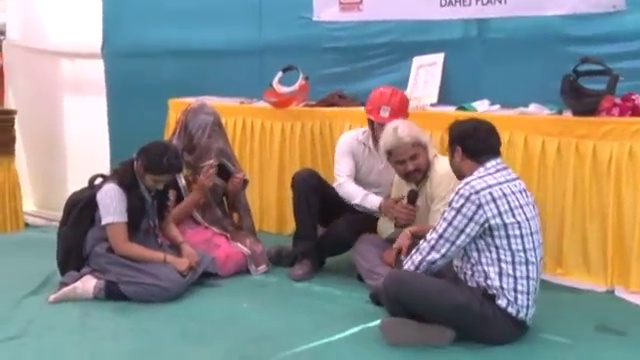helmet: (364, 86, 413, 127)
helmet_off: (438, 119, 507, 184), (379, 114, 434, 186), (173, 106, 228, 174), (124, 141, 186, 197)
helmet_on: (360, 86, 414, 147)
person: (355, 109, 547, 338), (268, 86, 415, 284), (50, 137, 205, 307), (156, 104, 256, 283), (354, 124, 457, 286)
